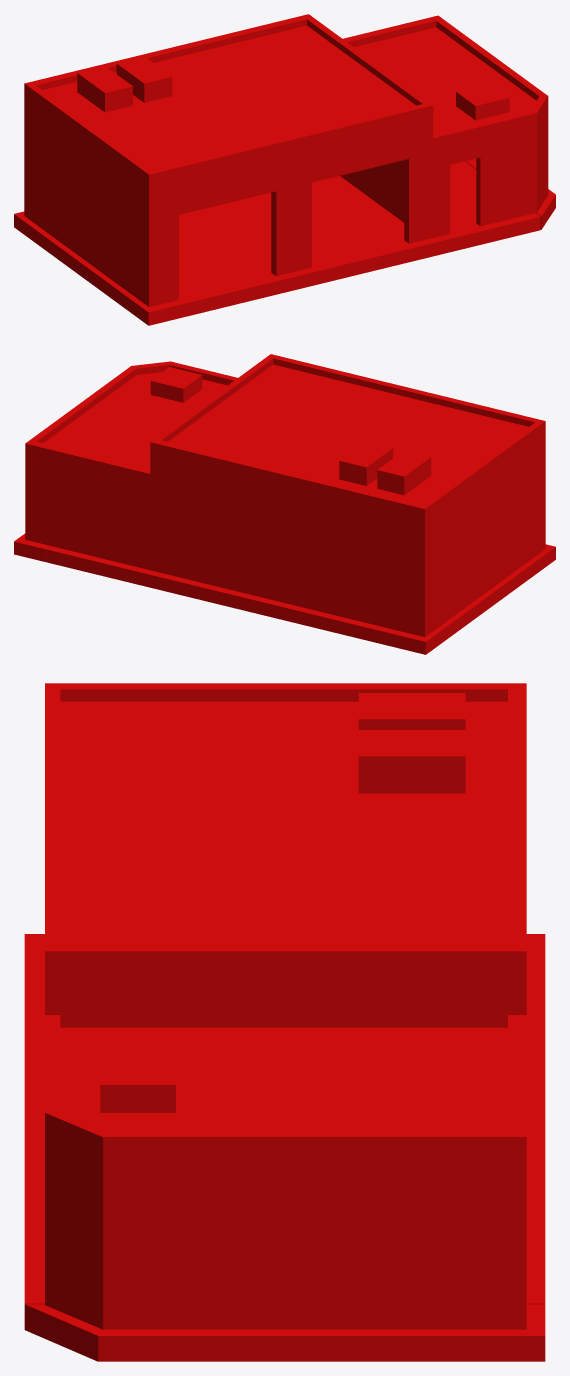
Rendered from SM_Bld_AutoRepair_01_Collision.fbx.
The picture shows the model from 3 angles, top to bottom: view 1: azimuth 30°, elevation 25°; view 2: azimuth 150°, elevation 25°; view 3: azimuth 270°, elevation 25°; orthographic projection. The views are drawn at different scales.
Visible parts, largest first — view 1: SM_Bld_AutoRepair_01_Collision; view 2: SM_Bld_AutoRepair_01_Collision; view 3: SM_Bld_AutoRepair_01_Collision.
Part boxes in pixels (<box>): SM_Bld_AutoRepair_01_Collision: <box>14,14,555,325</box>; SM_Bld_AutoRepair_01_Collision: <box>14,354,555,654</box>; SM_Bld_AutoRepair_01_Collision: <box>24,683,545,1361</box>.
Bounding box in the file's own units: 1973 × 703 × 1080.
